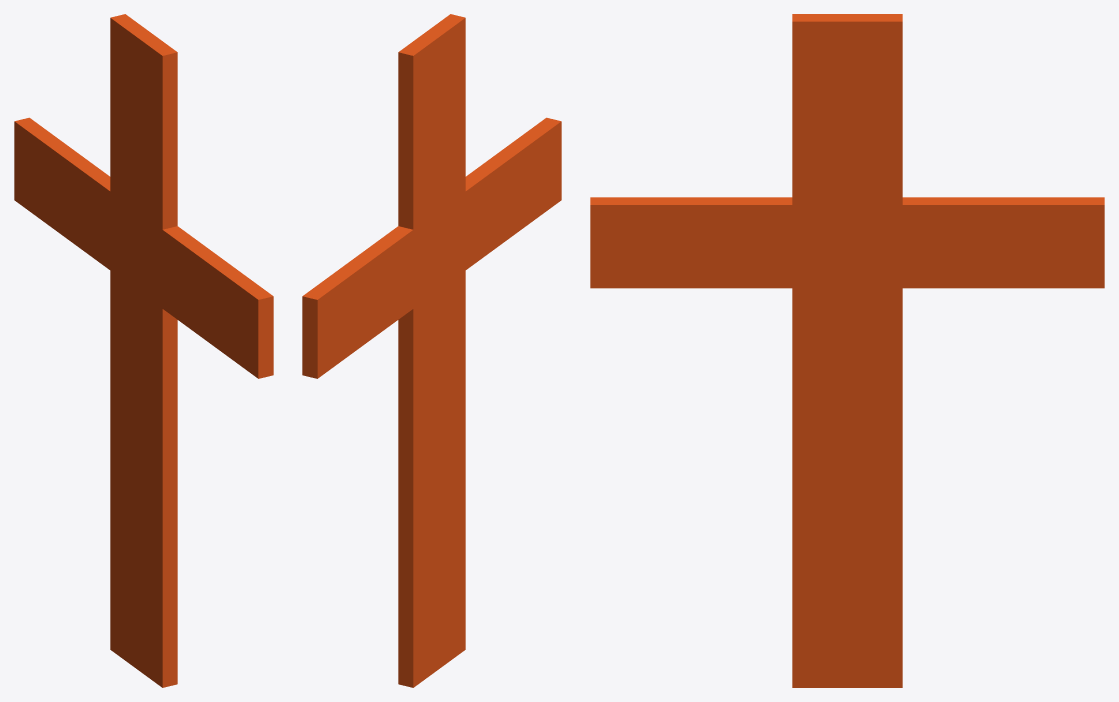
The model's file is Factory Bits-3-Sticker1.obj.
The picture shows the model from 3 angles, left to right: view 1: azimuth 30°, elevation 25°; view 2: azimuth 150°, elevation 25°; view 3: azimuth 270°, elevation 25°; orthographic projection. The views are drawn at different scales.
Parts seen in each view (by area): view 1: Sticker1; view 2: Sticker1; view 3: Sticker1.
Boxes of the visible parts, box(x1,y1,x2,y2) form: Sticker1: box(14, 14, 273, 687); Sticker1: box(302, 14, 561, 687); Sticker1: box(590, 14, 1104, 687).
Size of the model in its own units: 0.1 by 4 by 2.8.
1 material, 1 textured.
